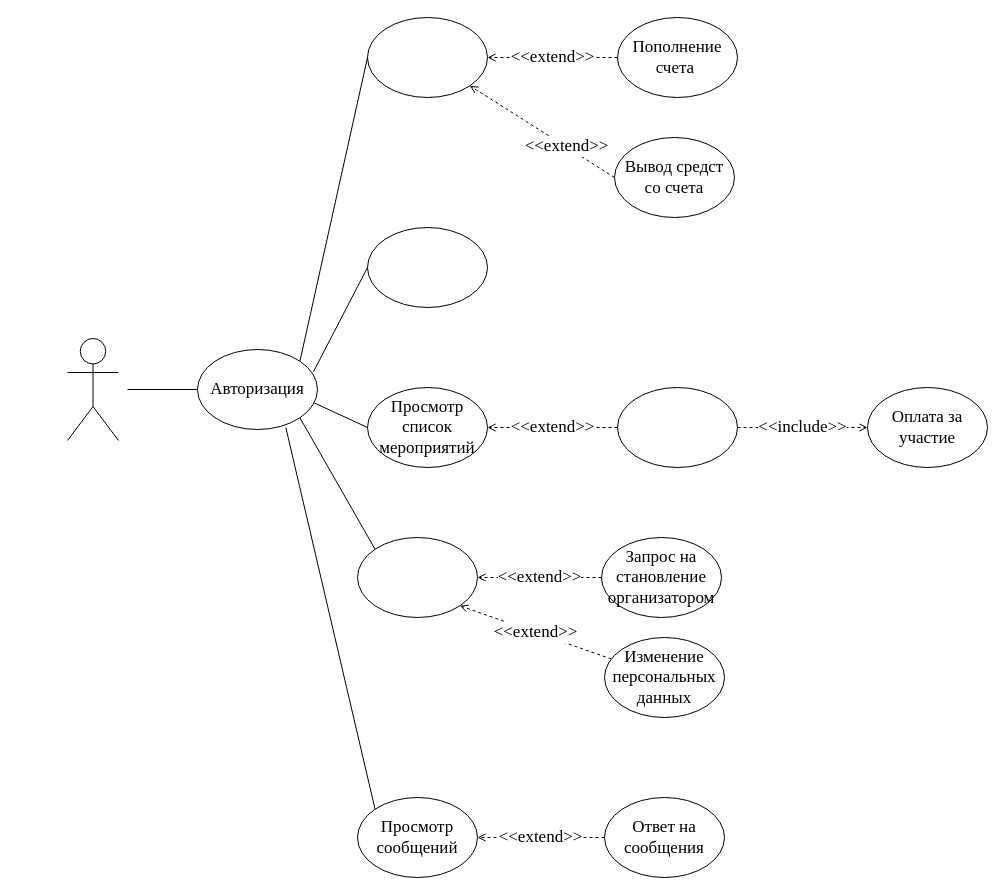
The diagram is 1005 pixels wide and 895 high, and some of its shapes have lost their labels. The shapes that lost their labels are listed below. From the top down, each one's centre as x and y in pixels, then its label:
point 427,57: Просмотр баланса
point 427,267: Поиск мероприятия по разным критериям
point 92,389: Зарегистрированный пользователь
point 677,427: Принять участие в мероприятие
point 417,577: Просмотр персональных данных
